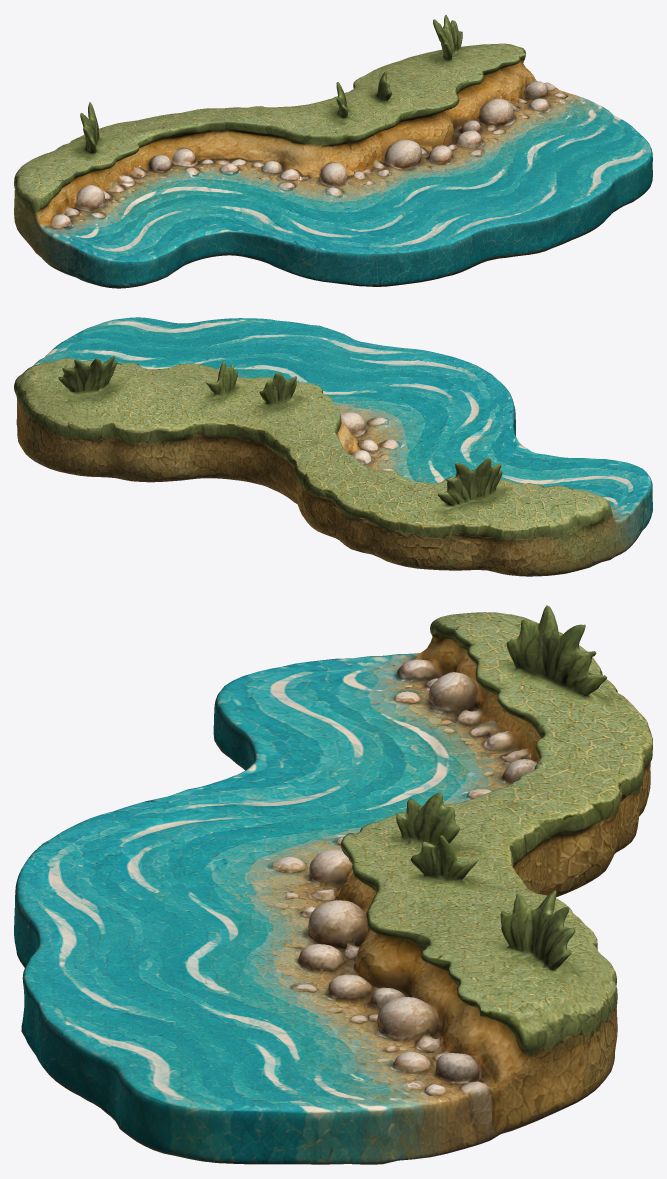
3 renders of one model, top to bottom at view 1: azimuth 30°, elevation 25°; view 2: azimuth 150°, elevation 25°; view 3: azimuth 270°, elevation 25°, orthographic. The views are drawn at different scales.
Visible parts, largest first — view 1: tripo_node_f7c10860-0ac1-493f-a785-8d8076e60e80; view 2: tripo_node_f7c10860-0ac1-493f-a785-8d8076e60e80; view 3: tripo_node_f7c10860-0ac1-493f-a785-8d8076e60e80.
Part boxes in pixels (x1,y1,x2,y2): tripo_node_f7c10860-0ac1-493f-a785-8d8076e60e80: (14,15,652,288); tripo_node_f7c10860-0ac1-493f-a785-8d8076e60e80: (14,317,652,576); tripo_node_f7c10860-0ac1-493f-a785-8d8076e60e80: (14,605,652,1164).
Size of the model in its own units: 0.9981 by 0.1845 by 0.5876.
Materials: 1 (1 with a texture image).
